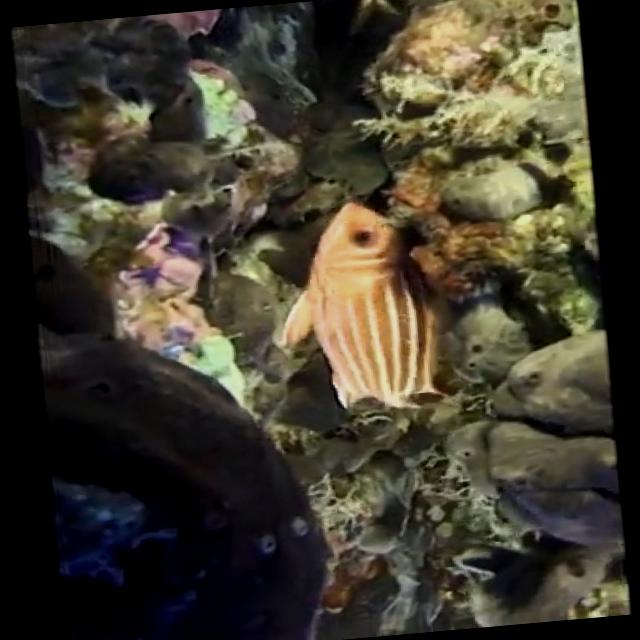Asker Baligi: (267, 191, 463, 422)
